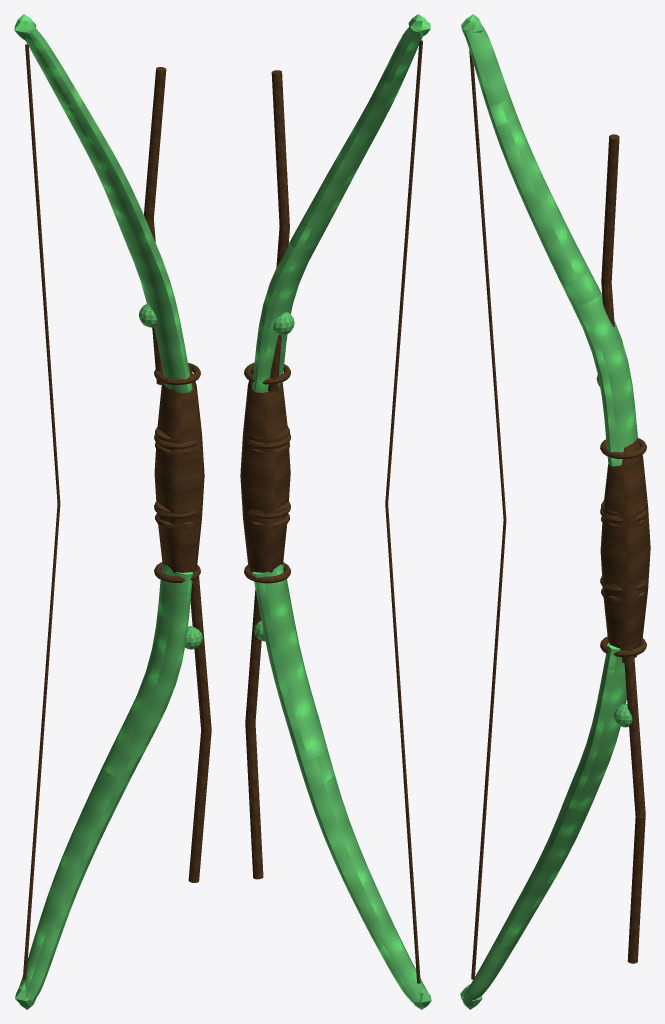
Rendered from underworld-weapon-worldroot-bow.glb.
3 views of the same model, side by side, from view 1: azimuth 30°, elevation 25°; view 2: azimuth 150°, elevation 25°; view 3: azimuth 330°, elevation 25° (orthographic).
Parts seen in each view (by area): view 1: riser, lower-inner, lower-mid, upper-inner, upper-mid, string-lower, string-upper, lower-outer, worldroot/limb-rib-3, worldroot/limb-rib-1, worldroot/limb-rib-2, upper-outer (+1 smaller); view 2: riser, lower-inner, lower-mid, upper-inner, upper-mid, string-lower, string-upper, worldroot/limb-rib-1, worldroot/limb-rib-3, lower-outer, upper-outer, worldroot/limb-rib-2 (+2 smaller); view 3: riser, upper-inner, upper-mid, lower-inner, lower-mid, upper-outer, string-lower, string-upper, worldroot/limb-rib-2, worldroot/limb-rib-1, worldroot/limb-rib-3, lower-outer (+1 smaller).
Part boxes in pixels (x1,y1,x2,y2): riser: (154, 366, 204, 584); lower-inner: (114, 561, 192, 756); lower-mid: (40, 743, 142, 929); upper-inner: (119, 223, 192, 393); upper-mid: (51, 84, 147, 232); string-lower: (22, 504, 60, 979); string-upper: (25, 44, 60, 504); lower-outer: (19, 918, 63, 1000); worldroot/limb-rib-3: (188, 730, 211, 882); worldroot/limb-rib-1: (144, 67, 166, 221); worldroot/limb-rib-2: (190, 566, 211, 732); upper-outer: (25, 28, 73, 92); riser: (240, 367, 290, 572); lower-inner: (252, 561, 326, 761); lower-mid: (298, 747, 394, 938); upper-inner: (252, 218, 330, 392); upper-mid: (302, 75, 404, 228); string-lower: (385, 504, 420, 983); string-upper: (385, 40, 422, 504); worldroot/limb-rib-1: (271, 70, 289, 228); worldroot/limb-rib-3: (245, 723, 263, 879); lower-outer: (373, 927, 427, 1002); upper-outer: (382, 26, 422, 83); worldroot/limb-rib-2: (245, 589, 261, 724); riser: (600, 438, 650, 662); upper-inner: (560, 268, 637, 466); upper-mid: (486, 95, 588, 282); lower-inner: (564, 642, 626, 809); lower-mid: (496, 800, 592, 946); upper-outer: (463, 27, 509, 106); string-lower: (471, 520, 506, 979); string-upper: (469, 50, 506, 520); worldroot/limb-rib-2: (624, 645, 645, 817); worldroot/limb-rib-1: (601, 134, 619, 284); worldroot/limb-rib-3: (627, 816, 645, 963); lower-outer: (463, 938, 518, 1002).
Bounding box in the file's own units: 0.3726 × 1.86 × 0.1144.
Materials: 2 (2 with a texture image).
